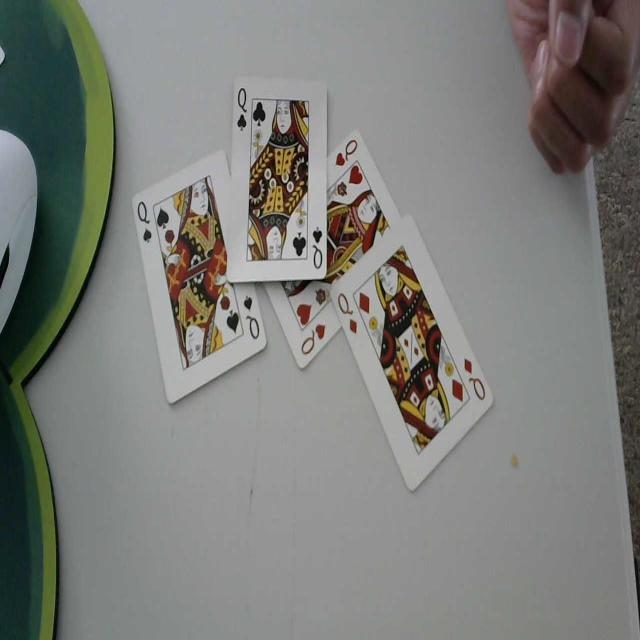QC: (311, 224, 326, 273), (235, 82, 248, 133)
QD: (462, 356, 487, 406), (337, 290, 359, 338)
QH: (300, 319, 327, 360), (334, 134, 358, 170)
QS: (241, 292, 260, 341), (136, 199, 153, 248)
